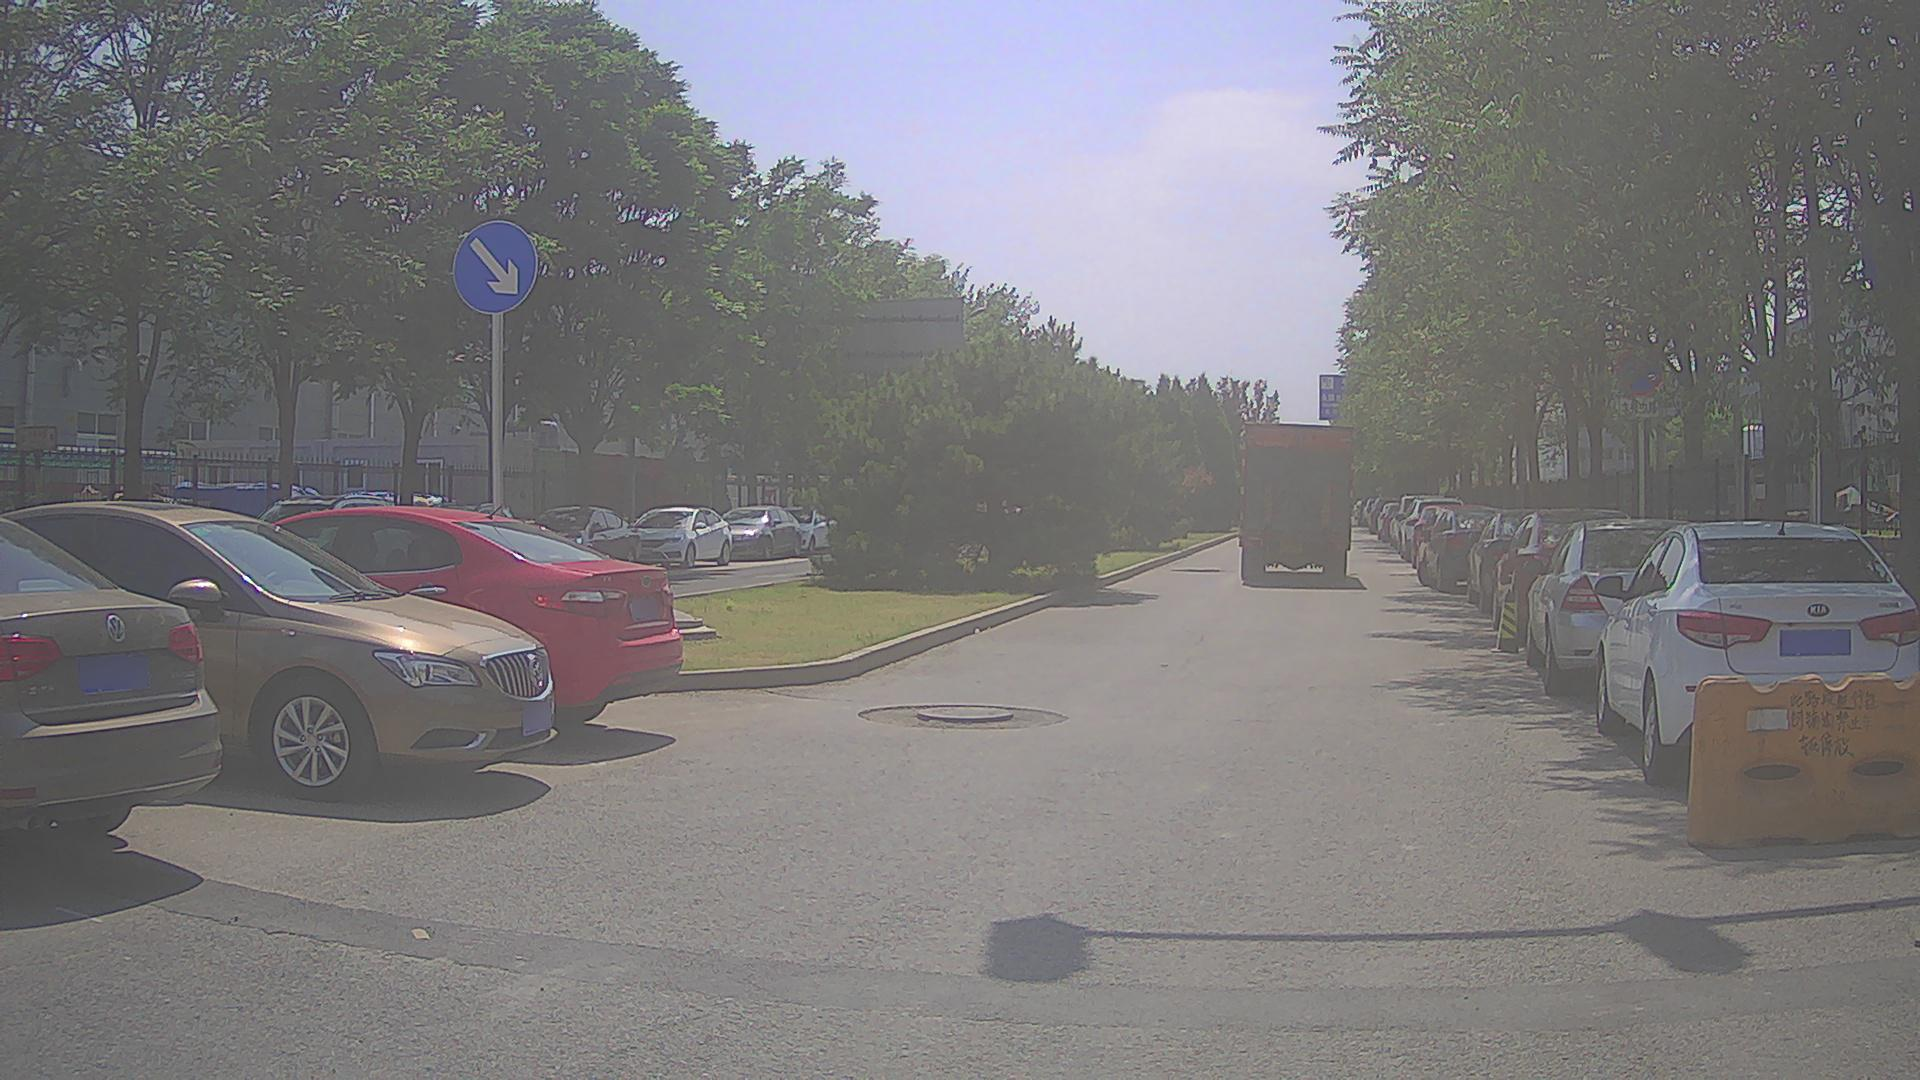car: (3, 498, 559, 800), (150, 505, 684, 735), (1592, 518, 1917, 785), (0, 508, 223, 837), (1522, 517, 1726, 698), (1485, 506, 1642, 644), (500, 502, 642, 579), (1465, 508, 1567, 615), (1415, 508, 1509, 593), (622, 504, 733, 568), (712, 504, 803, 560), (767, 505, 855, 555)
ignore: (5, 481, 516, 520), (1352, 493, 1495, 568)
trafficcone: (1684, 673, 1917, 851), (1490, 587, 1520, 654)
truck: (1236, 422, 1356, 582)
